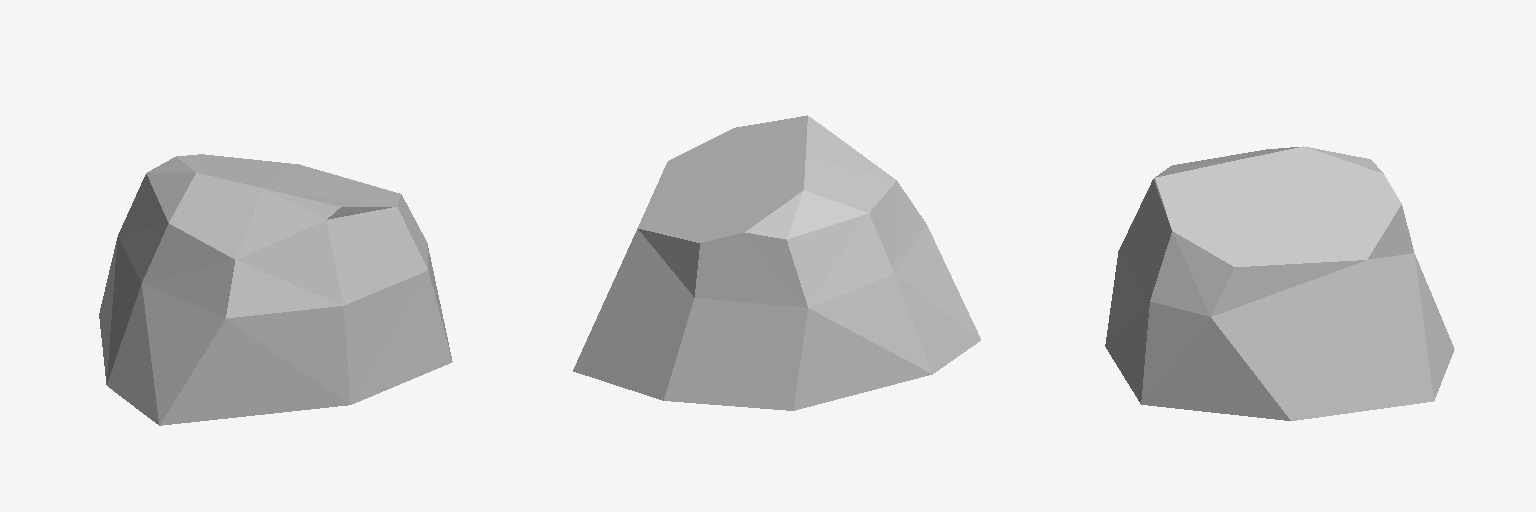
The model's file is Rock_3.obj.
3 renders of one model, left to right at view 1: azimuth 30°, elevation 25°; view 2: azimuth 150°, elevation 25°; view 3: azimuth 270°, elevation 25°, orthographic.
Visible parts, largest first — view 1: Rock_3; view 2: Rock_3; view 3: Rock_3.
Part boxes in pixels (left/top/right/bottom): Rock_3: left=99, top=154, right=452, bottom=425; Rock_3: left=573, top=115, right=980, bottom=410; Rock_3: left=1105, top=146, right=1454, bottom=420.
Bounding box in the file's own units: 2.2 × 1.19 × 2.12.